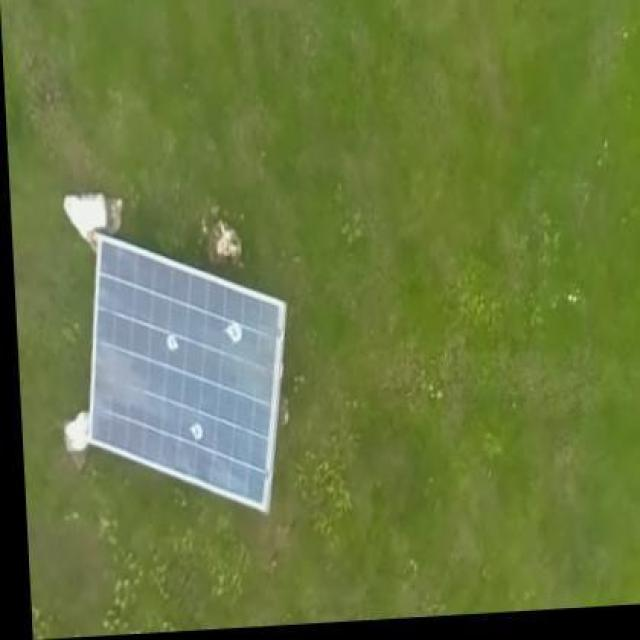soiled: (71, 237, 302, 518)
